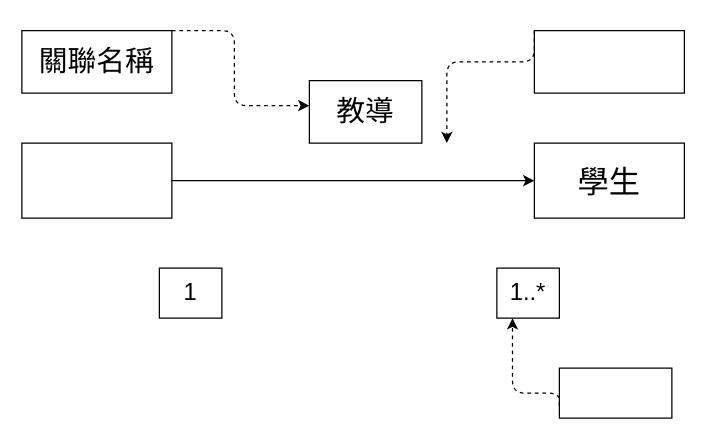
Some shapes in this 706 by 440 pixel diagram are drawn without their labels. Each missing label, with the box of its shape:
多種性: (558, 367, 672, 418)
方向箭頭: (533, 29, 684, 93)
老師: (21, 142, 172, 218)
